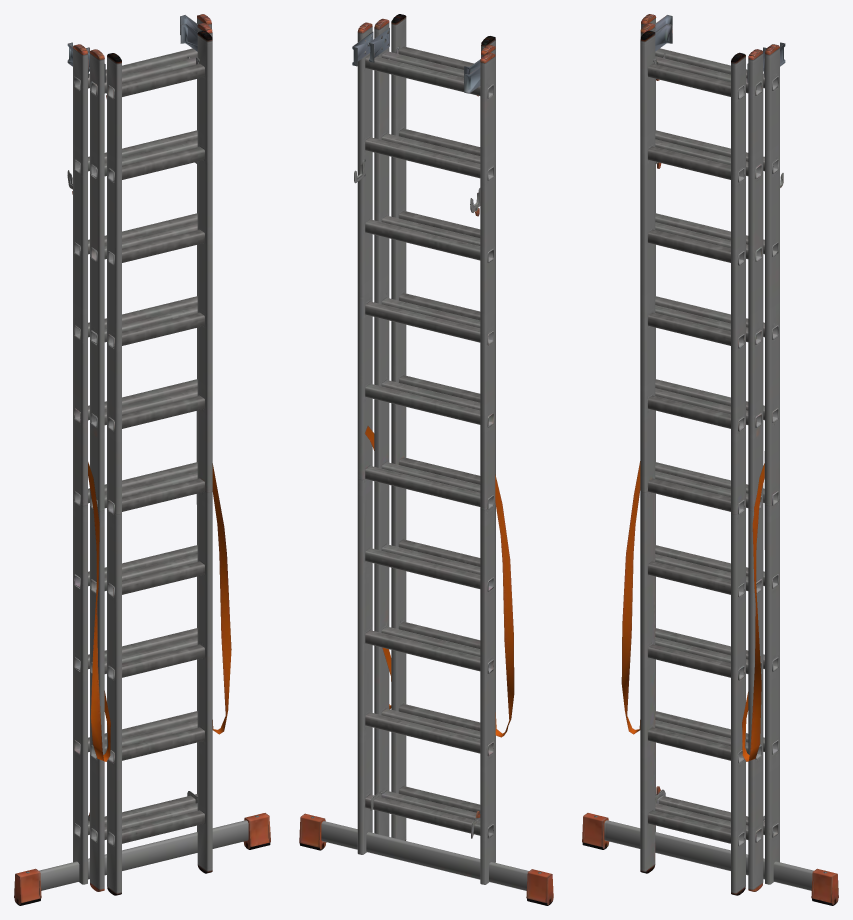
Rendered from ladder_sectioned_01.61739456.glb.
The picture shows the model from 3 angles, left to right: view 1: azimuth 30°, elevation 25°; view 2: azimuth 150°, elevation 25°; view 3: azimuth 330°, elevation 25°; orthographic projection.
Parts seen in each view (by area): view 1: ladder_section_03, ladder_section_01, ladder_section_02, ladder_ribbon; view 2: ladder_section_01, ladder_section_02, ladder_section_03, ladder_ribbon; view 3: ladder_section_03, ladder_section_01, ladder_section_02, ladder_ribbon.
Part boxes in pixels (x1,y1,x2,y2): ladder_section_03: (106,30,212,895); ladder_section_01: (14,14,270,905); ladder_section_02: (86,23,212,891); ladder_ribbon: (88,462,231,761); ladder_section_01: (299,22,553,905); ladder_section_02: (369,18,495,862); ladder_section_03: (388,14,495,861); ladder_ribbon: (365,426,514,737); ladder_section_03: (640,30,745,895); ladder_section_01: (582,14,838,905); ladder_section_02: (640,23,766,891); ladder_ribbon: (621,461,764,761).
Size of the model in its own units: 0.31 by 1 by 0.0832.
Materials: 1 (1 with a texture image).
